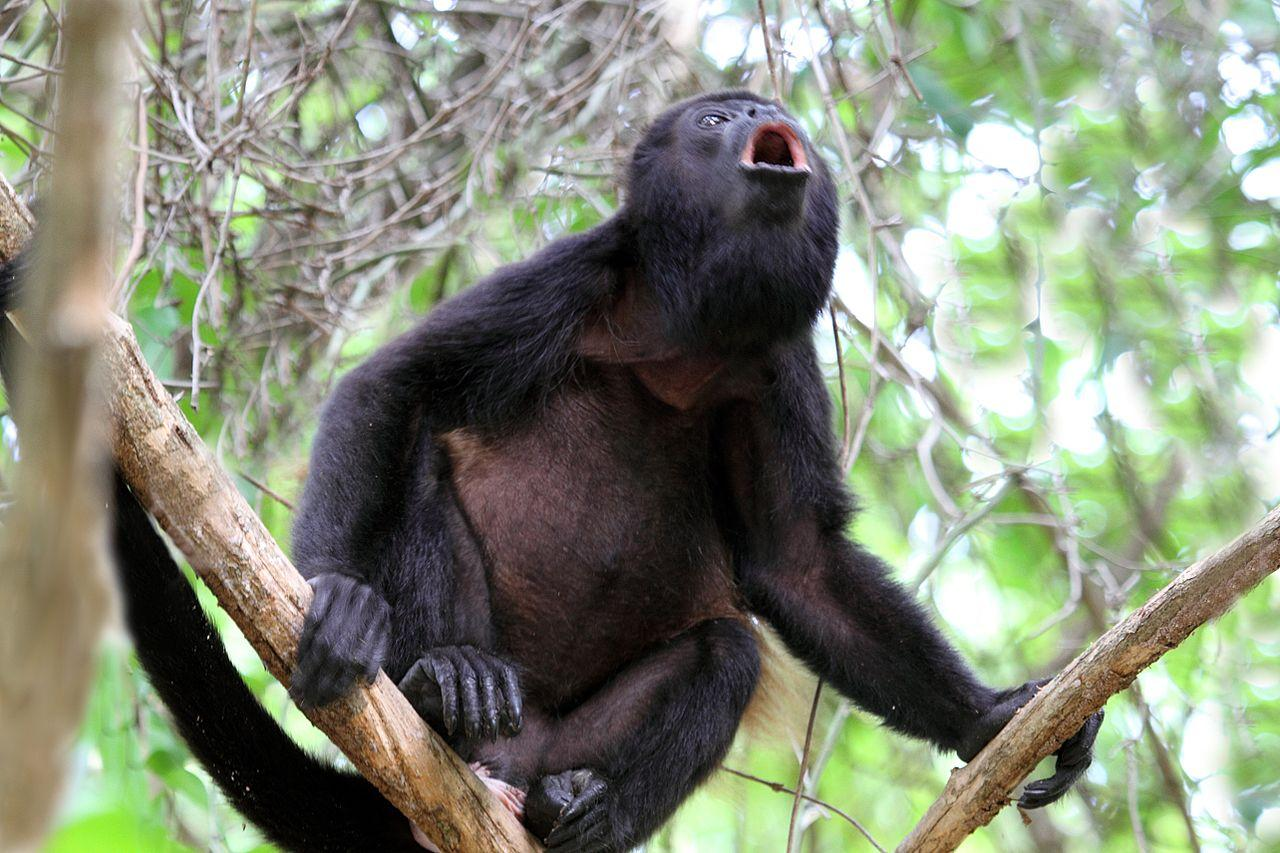monkey: (293, 92, 1026, 853)
